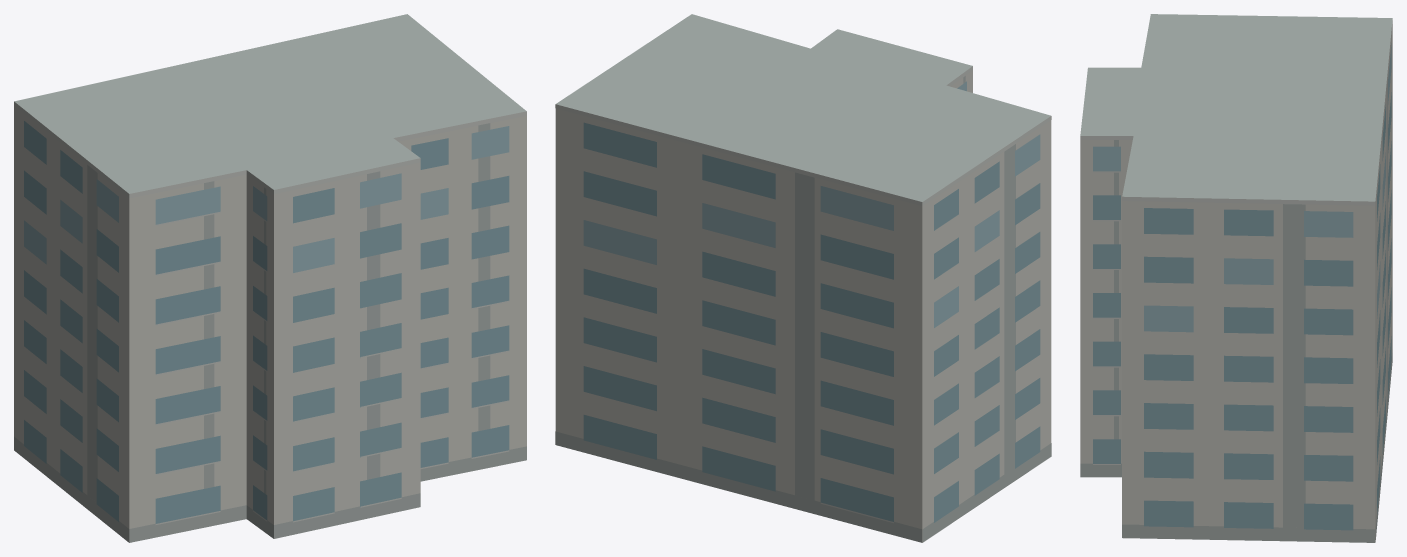
Rendered from survey-upis-32994001.glb.
The picture shows the model from 3 angles, left to right: view 1: azimuth 30°, elevation 25°; view 2: azimuth 150°, elevation 25°; view 3: azimuth 270°, elevation 25°; orthographic projection. The views are drawn at different scales.
Visible parts, largest first — view 1: survey-upis-32994001.tmp; view 2: survey-upis-32994001.tmp; view 3: survey-upis-32994001.tmp.
Boxes of the visible parts, x1,y1,x2,y2 form: survey-upis-32994001.tmp: (14, 14, 526, 542); survey-upis-32994001.tmp: (555, 14, 1051, 542); survey-upis-32994001.tmp: (1080, 14, 1392, 542).
Bounding box in the file's own units: 22.88 × 19.4 × 16.11.
